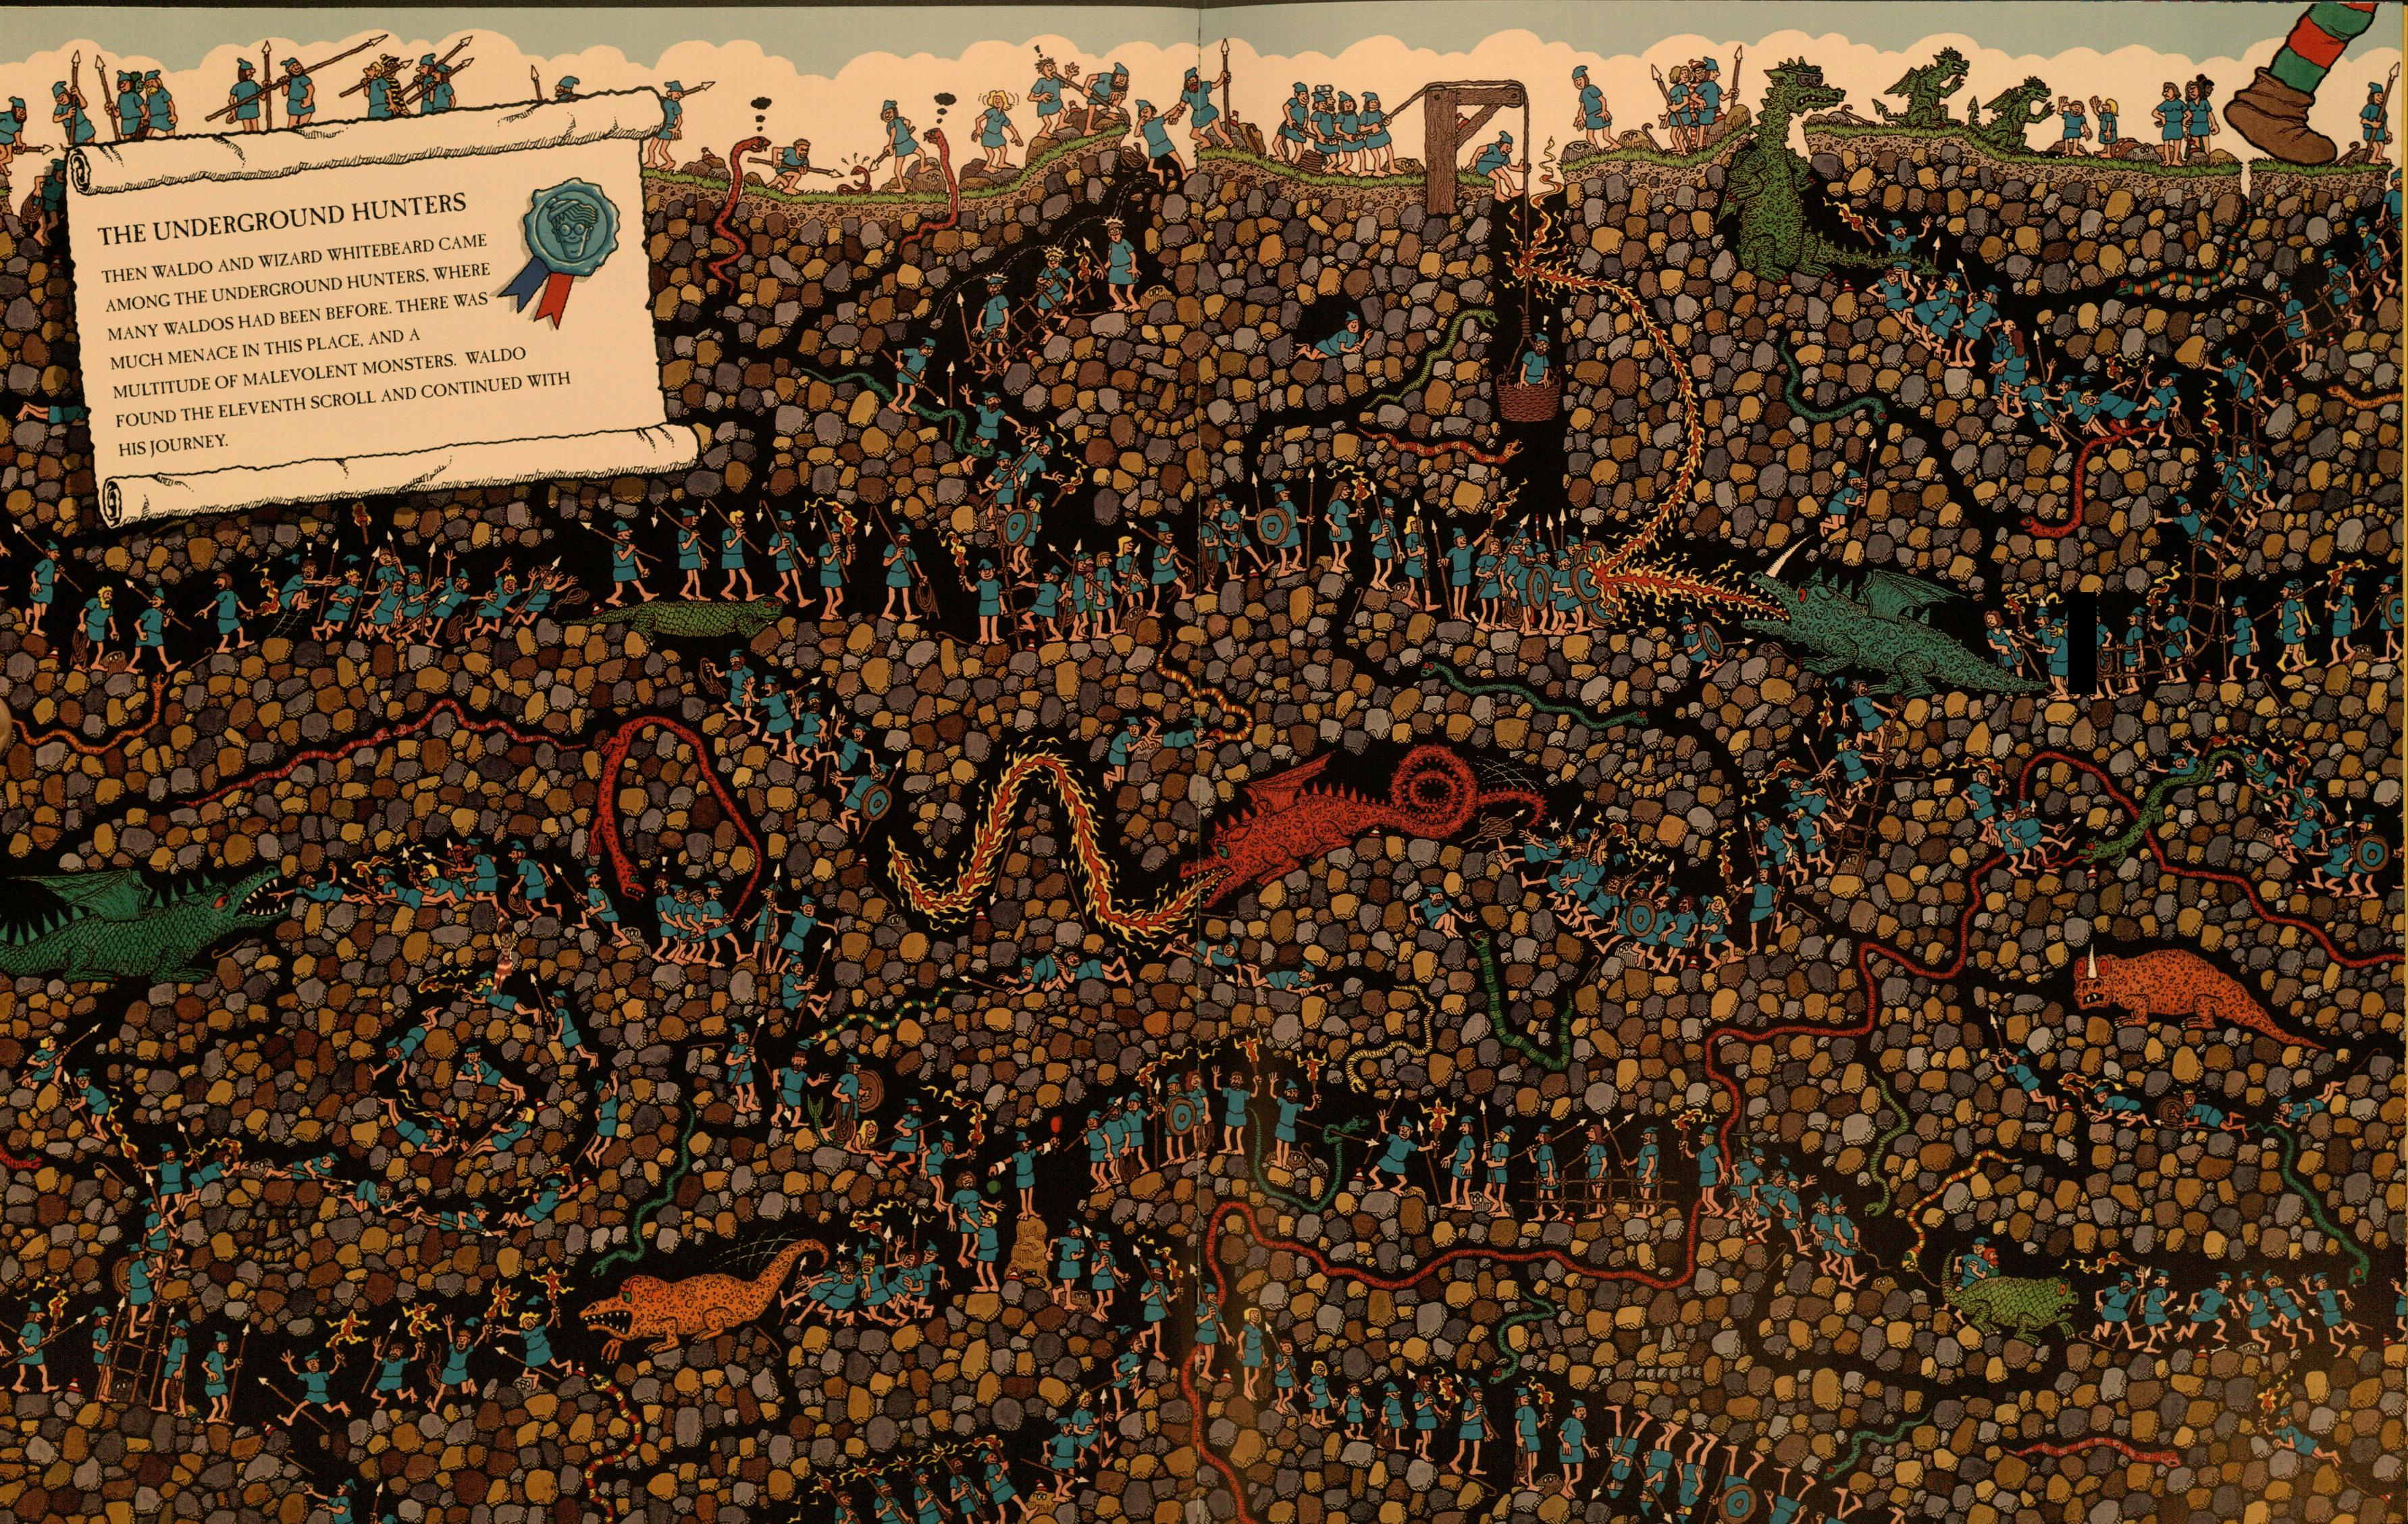waldos: (488, 906, 518, 1008)
